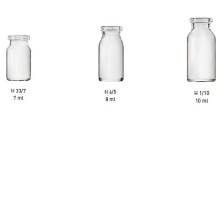bottle: (181, 10, 222, 85), (90, 20, 128, 85), (2, 33, 36, 83)
